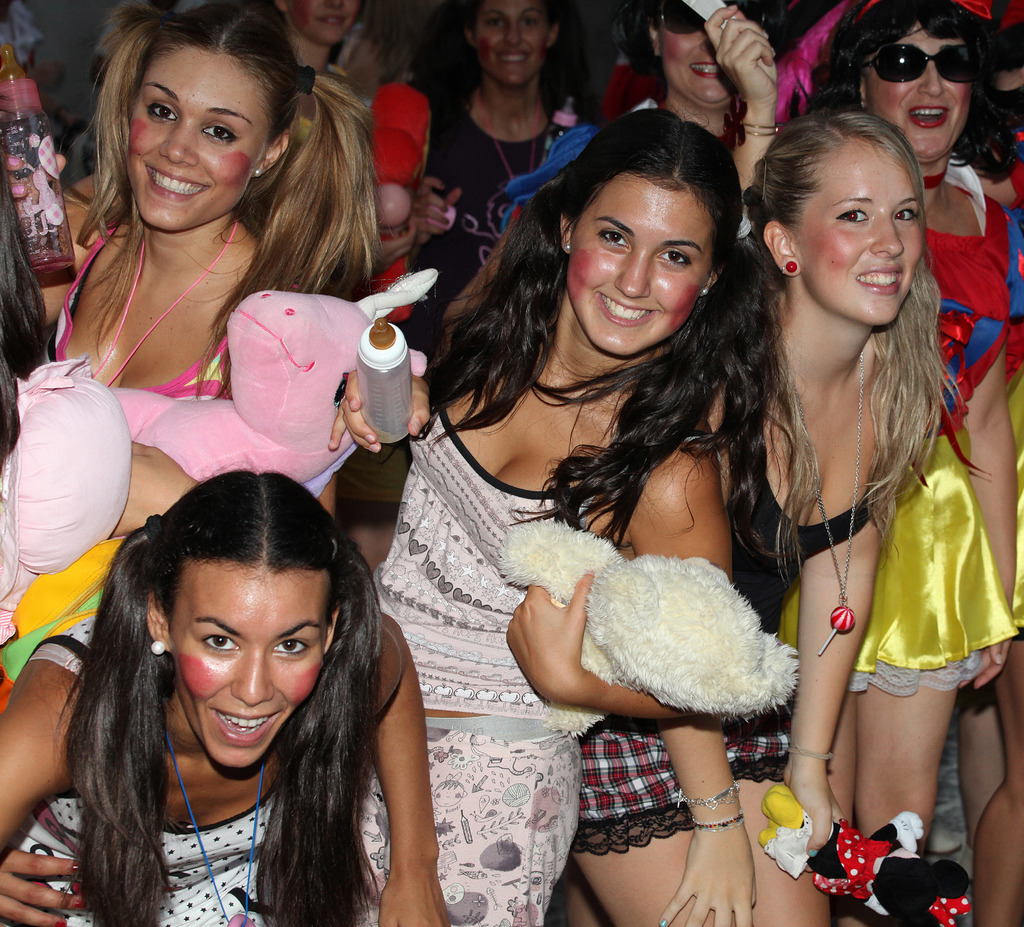face: (287, 0, 363, 43)
